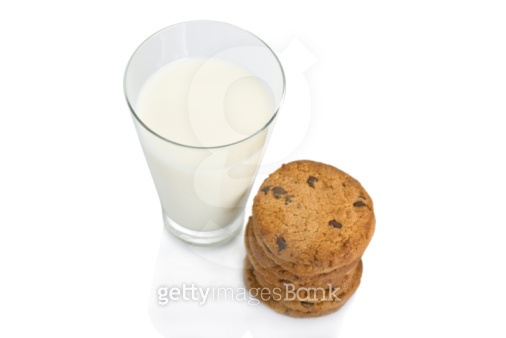glass of milk: (125, 20, 287, 248)
